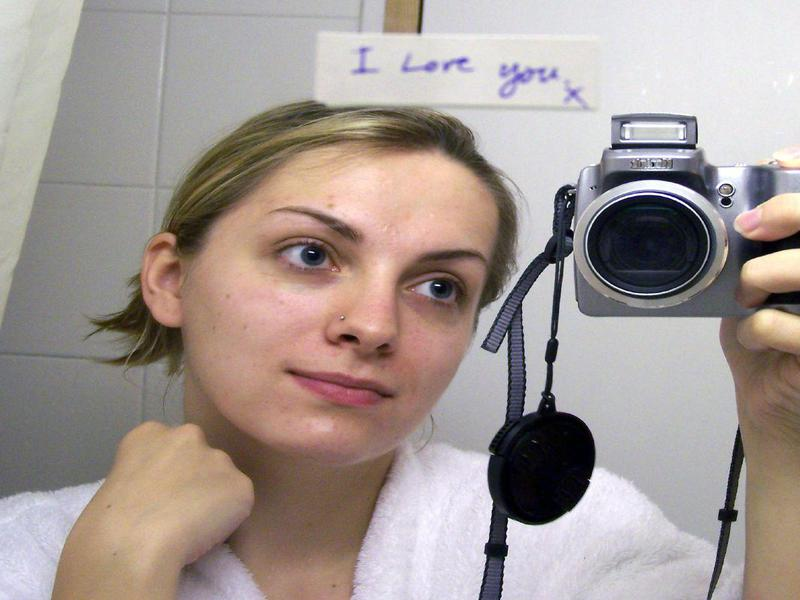person: (11, 98, 778, 600)
